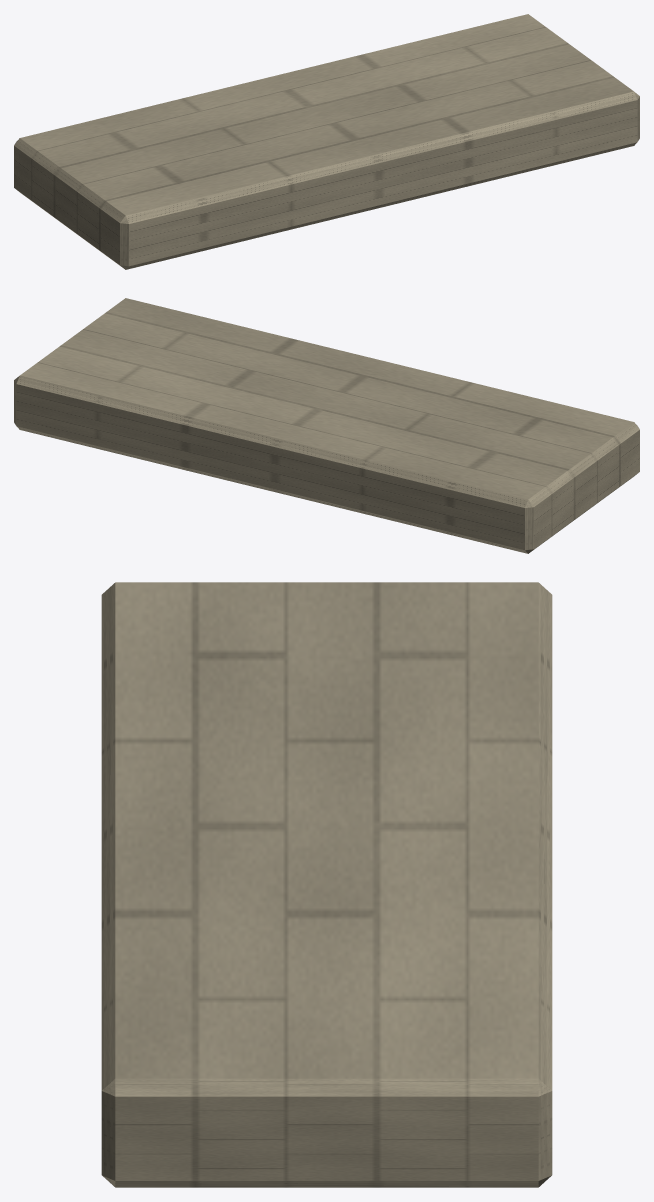
The model's file is module-foundation-step.glb.
3 renders of one model, top to bottom at view 1: azimuth 30°, elevation 25°; view 2: azimuth 150°, elevation 25°; view 3: azimuth 270°, elevation 25°, orthographic. The views are drawn at different scales.
Parts seen in each view (by area): view 1: module-foundation-step; view 2: module-foundation-step; view 3: module-foundation-step.
Boxes of the visible parts, box(x1,y1,x2,y2) form: module-foundation-step: box(14, 14, 639, 269); module-foundation-step: box(14, 298, 639, 553); module-foundation-step: box(101, 582, 552, 1187).
Size of the model in its own units: 1.6 by 0.16 by 0.6.
Materials: 1 (1 with a texture image).
